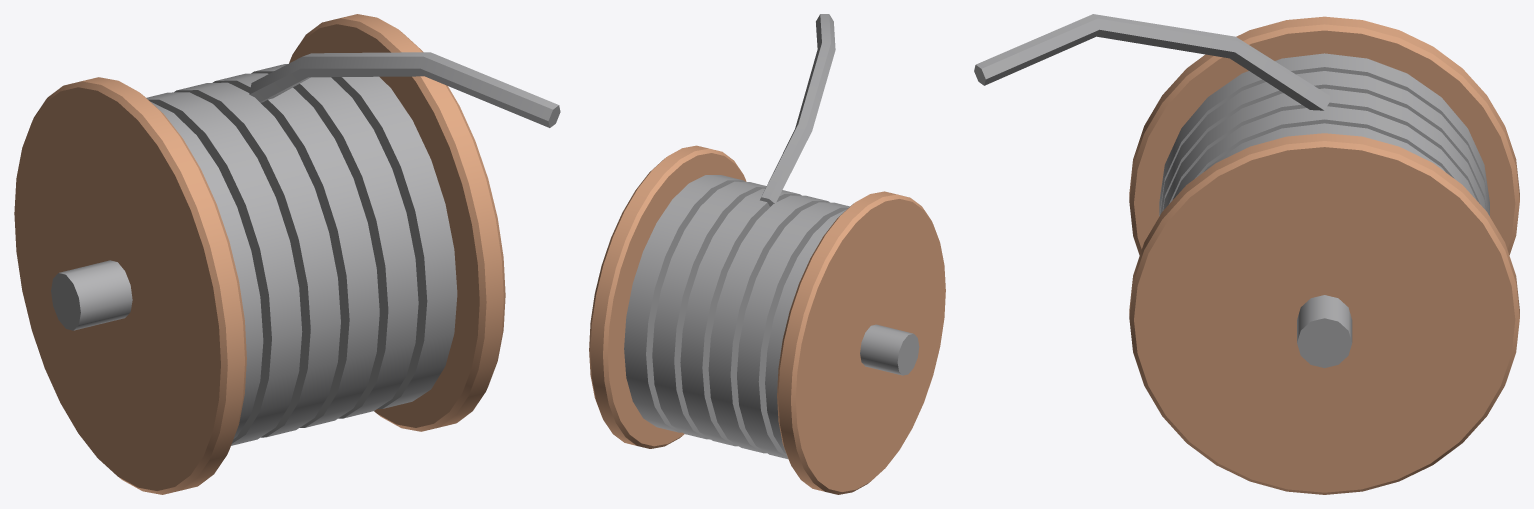
The model's file is grappler_drum.glb.
3 renders of one model, left to right at view 1: azimuth 30°, elevation 25°; view 2: azimuth 150°, elevation 25°; view 3: azimuth 270°, elevation 25°, orthographic. The views are drawn at different scales.
Parts seen in each view (by area): view 1: body; view 2: body; view 3: body.
Boxes of the visible parts, x1,y1,x2,y2 form: body: [14, 14, 560, 494]; body: [589, 14, 945, 494]; body: [974, 14, 1519, 494].
Bounding box in the file's own units: 0.18 × 0.2093 × 0.2376.
